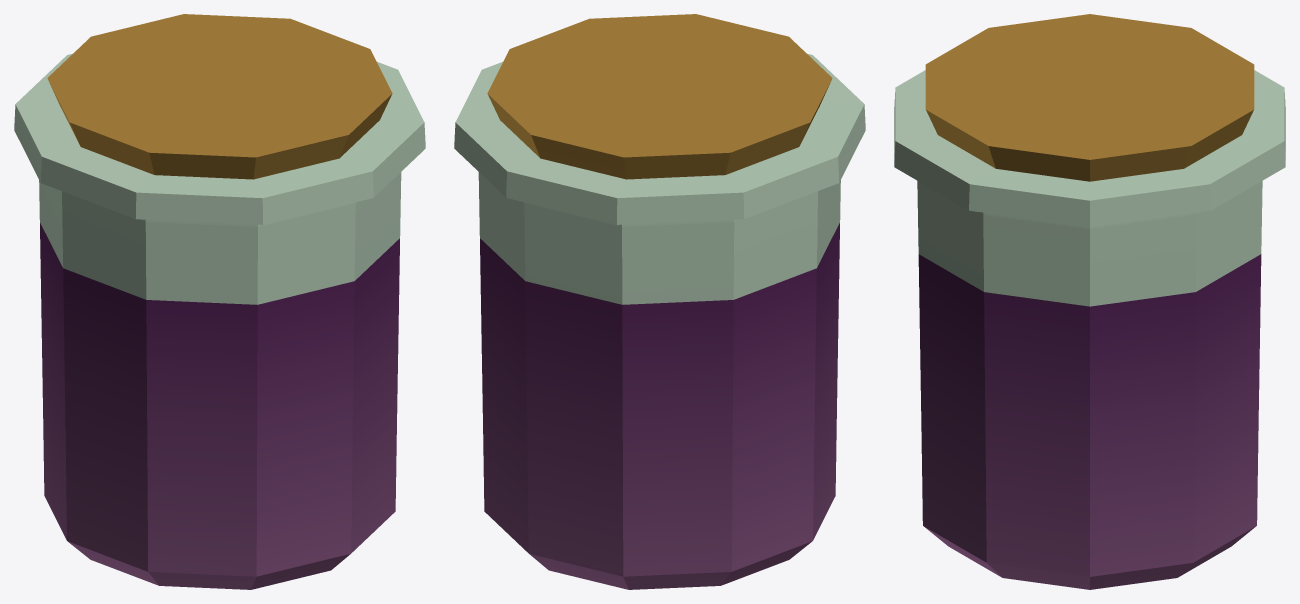
The model's file is Potion_E.fbx.
The picture shows the model from 3 angles, left to right: view 1: azimuth 30°, elevation 25°; view 2: azimuth 150°, elevation 25°; view 3: azimuth 270°, elevation 25°; orthographic projection.
Visible parts, largest first — view 1: Potion_E; view 2: Potion_E; view 3: Potion_E.
Part boxes in pixels (x1=…): Potion_E: x1=14, y1=14, x2=425, y2=589; Potion_E: x1=454, y1=14, x2=865, y2=589; Potion_E: x1=894, y1=14, x2=1285, y2=589.
Bounding box in the file's own units: 17.15 × 20.23 × 16.31.
